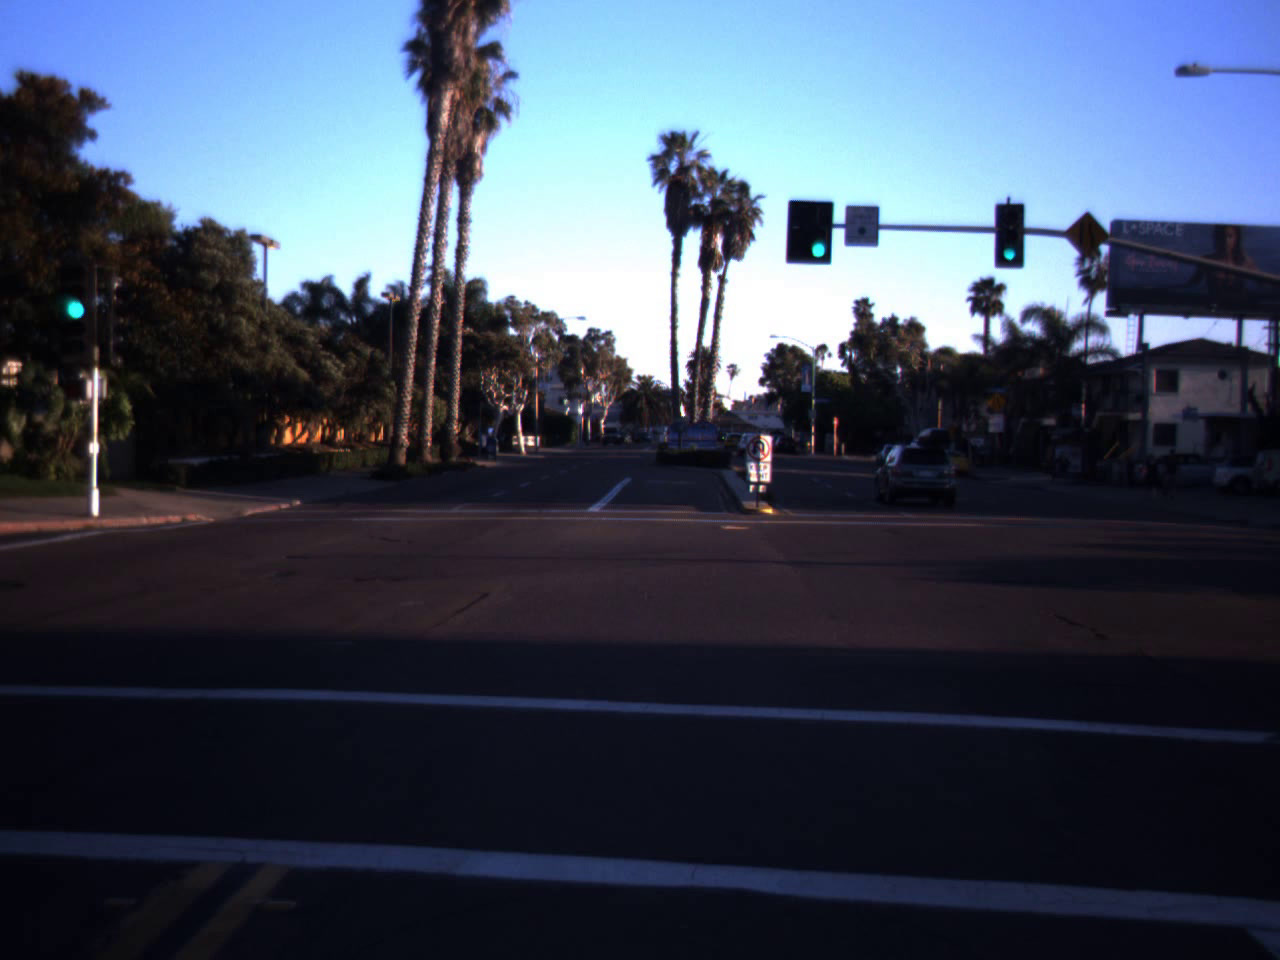go: (55, 246, 97, 326), (802, 202, 835, 262), (996, 223, 1023, 263)
